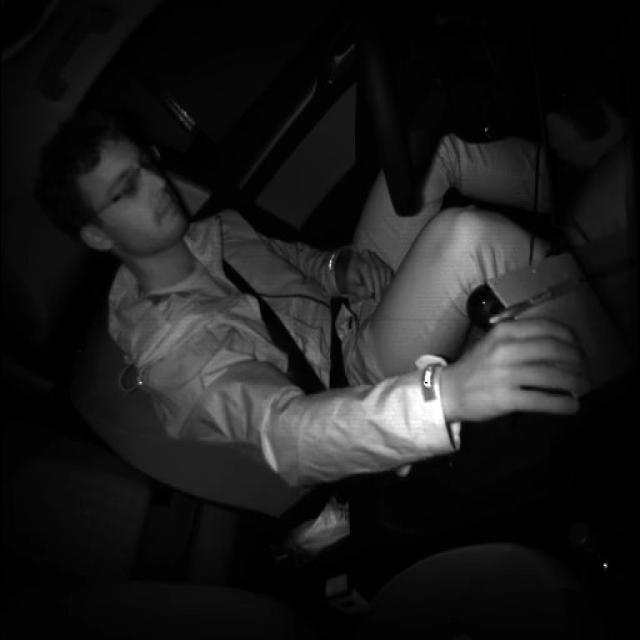pen: (490, 272, 592, 326)
